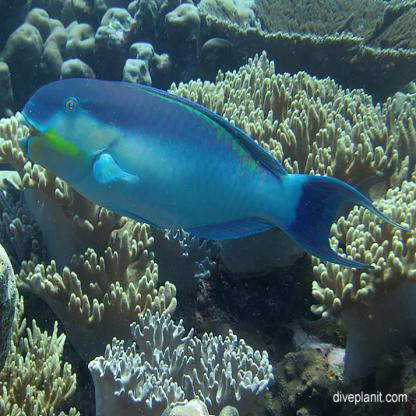Scaridae -Parrotfishes-: (17, 73, 404, 287)
